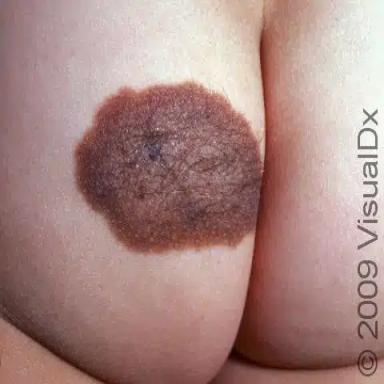nevus: (74, 82, 262, 255)
